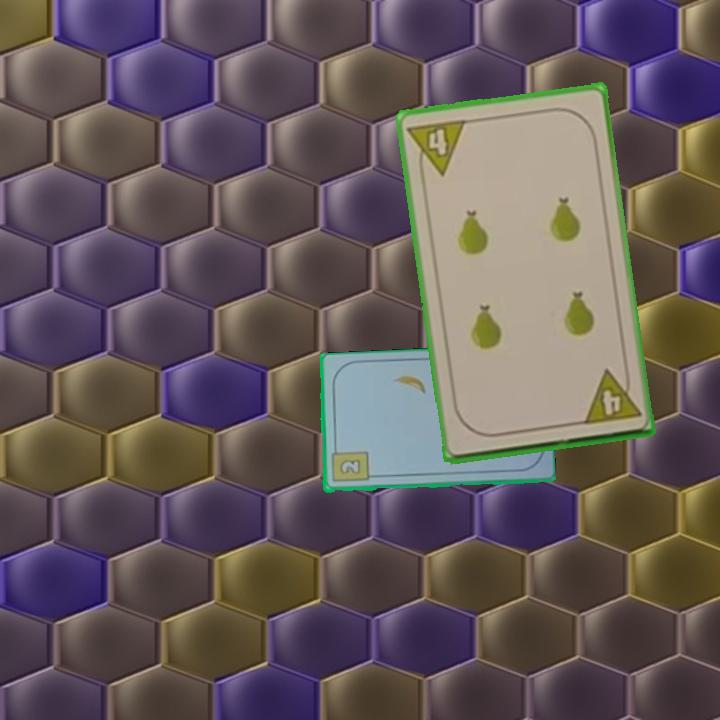2b: (328, 443, 371, 485)
4p: (404, 116, 469, 181), (579, 364, 644, 428)
